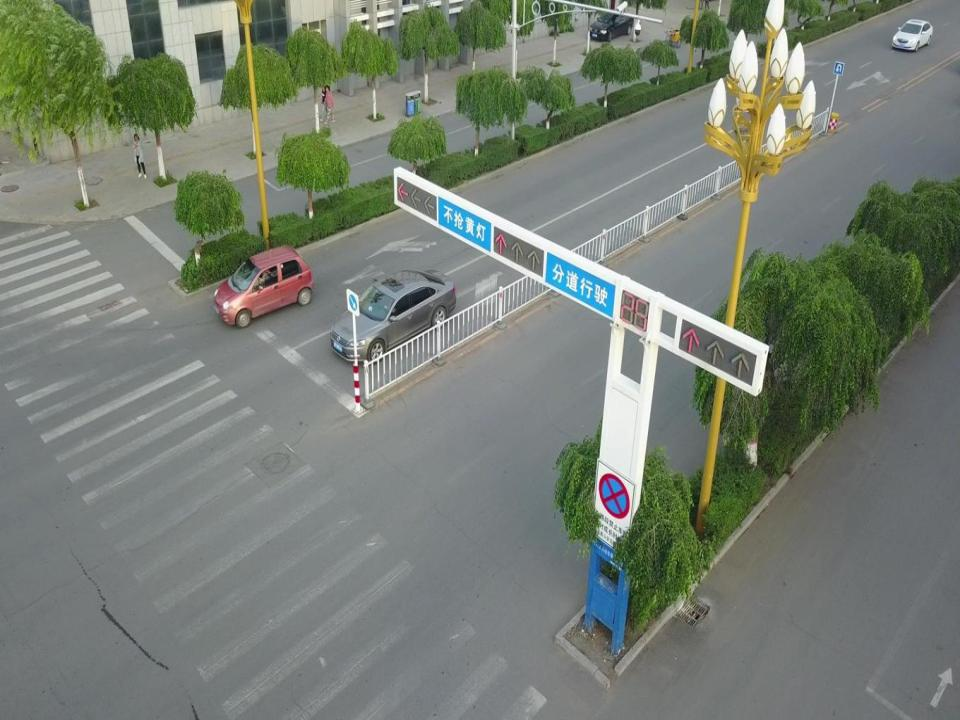car: (330, 270, 456, 363), (589, 9, 634, 42), (892, 19, 933, 51)
van: (214, 244, 314, 328)
